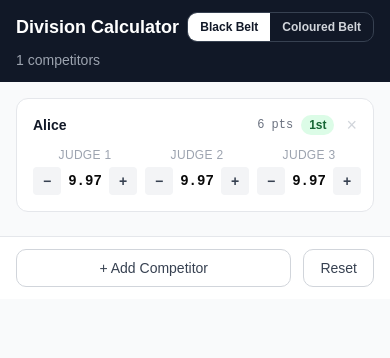
CalculatorPage › Accept button resolves discrepancy and hides banner
Click the button named "judge 1 worse": (47, 181) left=33, top=167, right=61, bottom=195
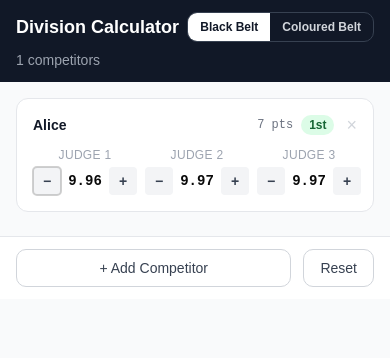
Click the button named "judge 1 worse": (47, 181) left=33, top=167, right=61, bottom=195
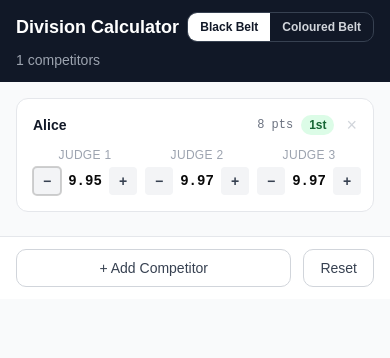
Click the button named "judge 1 worse": (47, 181) left=33, top=167, right=61, bottom=195
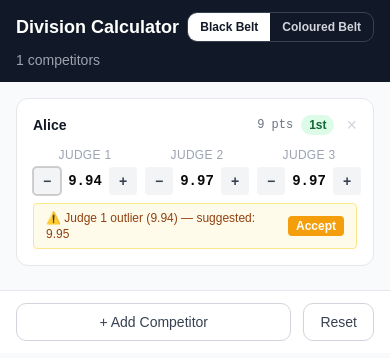
Click the button named "judge 1 worse": (47, 181) left=33, top=167, right=61, bottom=195
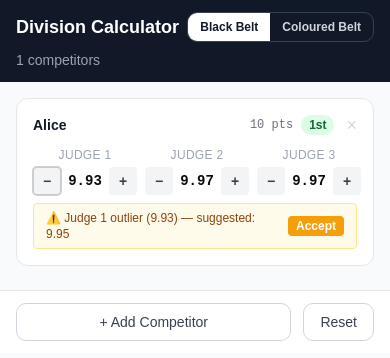
Click the button "Accept": (316, 226) left=288, top=216, right=344, bottom=236
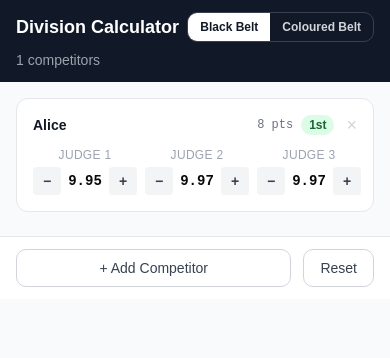
Check: the text "outlier" is gone
